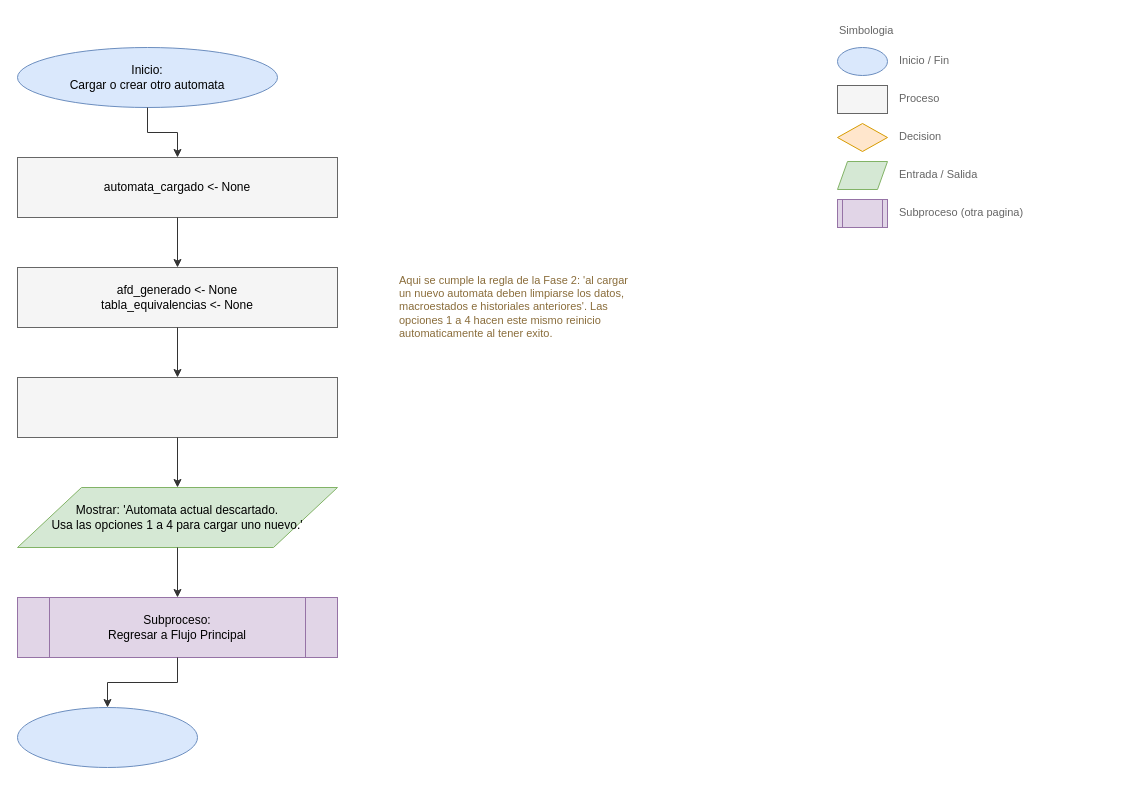
Image size: 1135x785. Some labels were removed from this diagram. The shapes that lost their labels are listed below. From the top down, each one's centre as x and y in pixels, then its label:
At (177,407): "historial <- nuevo (vacio)".
At (107,737): "Fin".
